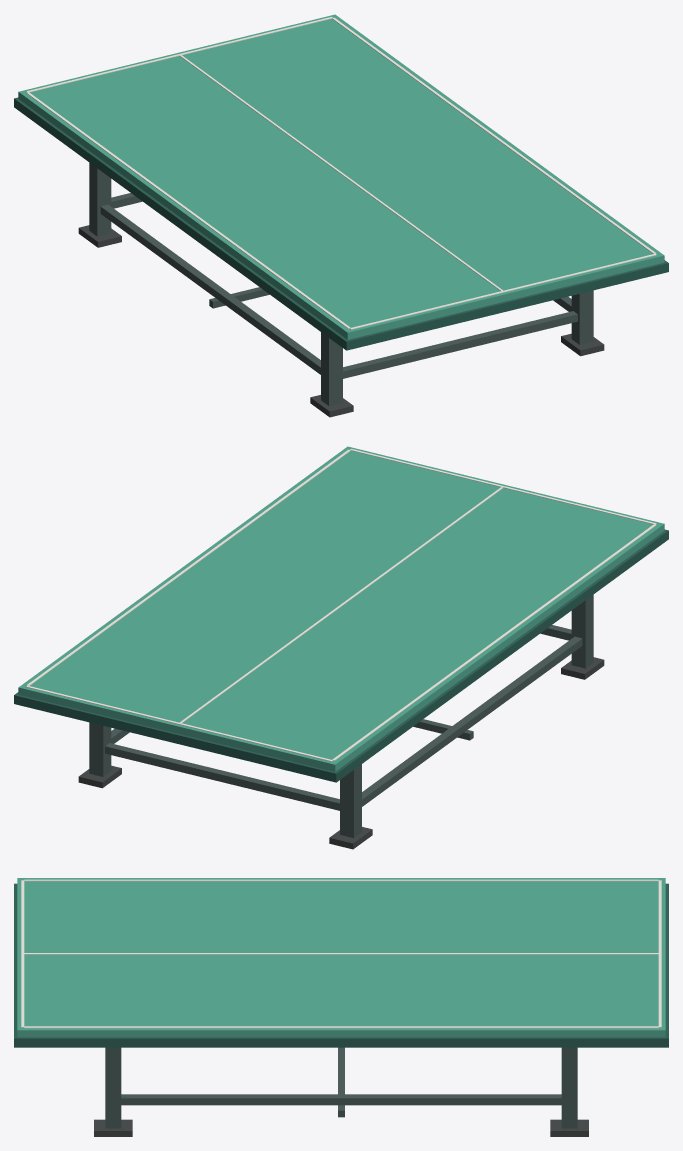
The model's file is table.glb.
The picture shows the model from 3 angles, top to bottom: view 1: azimuth 30°, elevation 25°; view 2: azimuth 150°, elevation 25°; view 3: azimuth 270°, elevation 25°; orthographic projection.
Parts seen in each view (by area): view 1: Top, Apron, SideBrace-1, CrossBrace1, Leg_-1_1, Leg_-1_-1, SideLine-2.17, SideLine2.17, Leg_1_1, CenterLine, EndLine3.98, EndLine-3.98; view 2: Top, Apron, SideBrace-1, CrossBrace-1, Leg_-1_-1, Leg_-1_1, SideLine-2.17, SideLine2.17, Leg_1_-1, CenterLine, EndLine-3.98, EndLine3.98; view 3: Top, Apron, SideBrace1, SideLine-2.17, SideLine2.17, Leg_1_-1, Leg_1_1, CenterLine, EndLine-3.98, EndLine3.98, Foot_1_-1, Foot_1_1 (+1 smaller).
Boxes of the visible parts, x1,y1,x2,y2 form: Top: (18, 14, 664, 339); Apron: (14, 97, 668, 350); SideBrace-1: (100, 204, 320, 374); CrossBrace1: (343, 311, 577, 378); Leg_-1_1: (321, 332, 342, 405); Leg_-1_-1: (89, 162, 111, 236); SideLine-2.17: (26, 92, 350, 328); SideLine2.17: (332, 17, 656, 253); Leg_1_1: (571, 290, 593, 344); CenterLine: (179, 55, 502, 291); EndLine3.98: (349, 253, 656, 329); EndLine-3.98: (26, 17, 332, 92); Top: (18, 446, 664, 771); Apron: (14, 529, 668, 782); SideBrace-1: (362, 636, 582, 806); CrossBrace-1: (105, 743, 339, 810); Leg_-1_-1: (340, 764, 361, 837); Leg_-1_1: (571, 594, 593, 668); SideLine-2.17: (332, 524, 656, 760); SideLine2.17: (26, 449, 350, 685); Leg_1_-1: (89, 722, 111, 776); CenterLine: (180, 487, 503, 723); EndLine-3.98: (26, 685, 333, 761); EndLine3.98: (350, 449, 656, 524); Top: (17, 878, 665, 1037); Apron: (14, 883, 668, 1047); SideBrace1: (121, 1094, 561, 1105); SideLine-2.17: (24, 879, 658, 881); SideLine2.17: (24, 1026, 658, 1028); Leg_1_-1: (561, 1047, 577, 1128); Leg_1_1: (105, 1047, 121, 1128); CenterLine: (24, 953, 658, 954); EndLine-3.98: (658, 880, 661, 1027); EndLine3.98: (21, 880, 24, 1027); Foot_1_-1: (550, 1119, 588, 1136); Foot_1_1: (94, 1119, 132, 1136).
Bounding box in the file's own units: 4.58 × 1.62 × 8.18.
